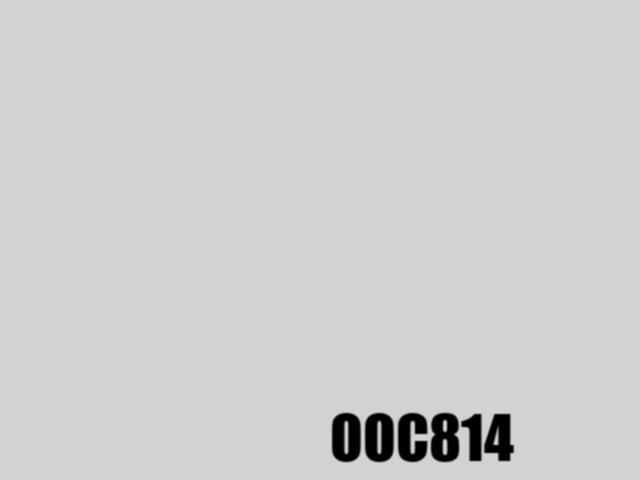OCR_AREA: (326, 409, 518, 466)
